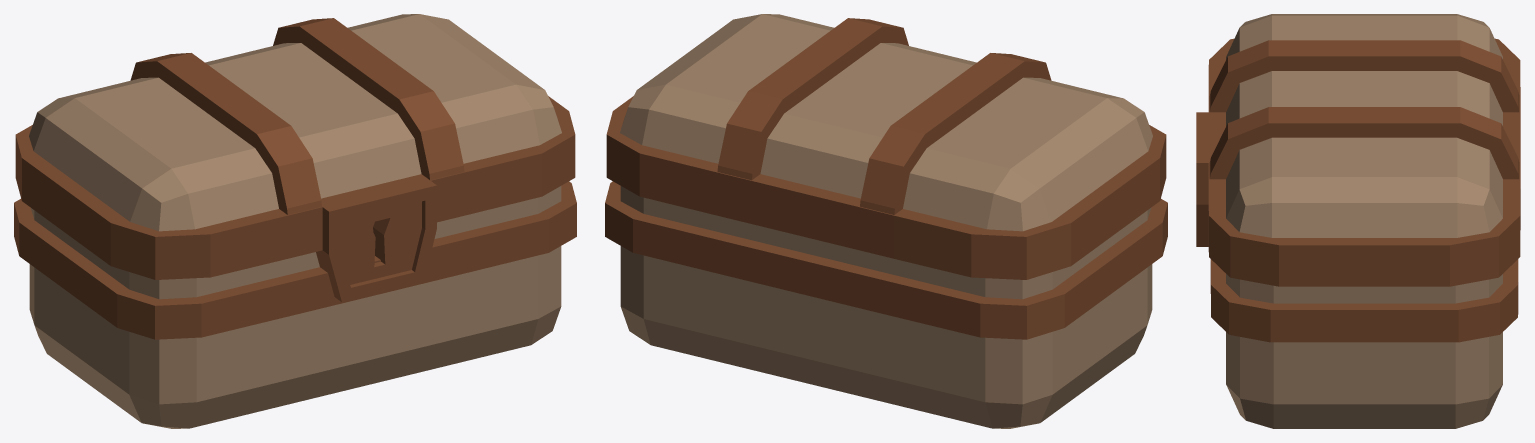
The model's file is chest.glb.
3 views of the same model, side by side, from view 1: azimuth 30°, elevation 25°; view 2: azimuth 150°, elevation 25°; view 3: azimuth 270°, elevation 25° (orthographic). The views are drawn at different scales.
Parts seen in each view (by area): view 1: Cube.011, Cube.010, Cube.015, Cube.012, Cube.014; view 2: Cube.011, Cube.010, Cube.015, Cube.012, Cube.014; view 3: Cube.011, Cube.010, Cube.015, Cube.014, Cube.012.
Part boxes in pixels (box(x1,y1,x2,y2)): Cube.011: box(29, 14, 561, 231); Cube.010: box(29, 186, 561, 428); Cube.015: box(15, 96, 575, 302); Cube.012: box(14, 181, 576, 339); Cube.014: box(130, 18, 464, 214); Cube.011: box(620, 14, 1152, 231); Cube.010: box(620, 186, 1152, 428); Cube.015: box(606, 96, 1166, 279); Cube.012: box(605, 181, 1167, 339); Cube.014: box(717, 18, 1051, 214); Cube.011: box(1226, 14, 1502, 237); Cube.010: box(1226, 274, 1502, 428); Cube.015: box(1196, 38, 1520, 286); Cube.014: box(1209, 40, 1519, 179); Cube.012: box(1210, 259, 1518, 342).
Size of the model in its own units: 1.47 by 0.8468 by 0.9369.
2 materials, 2 textured.
